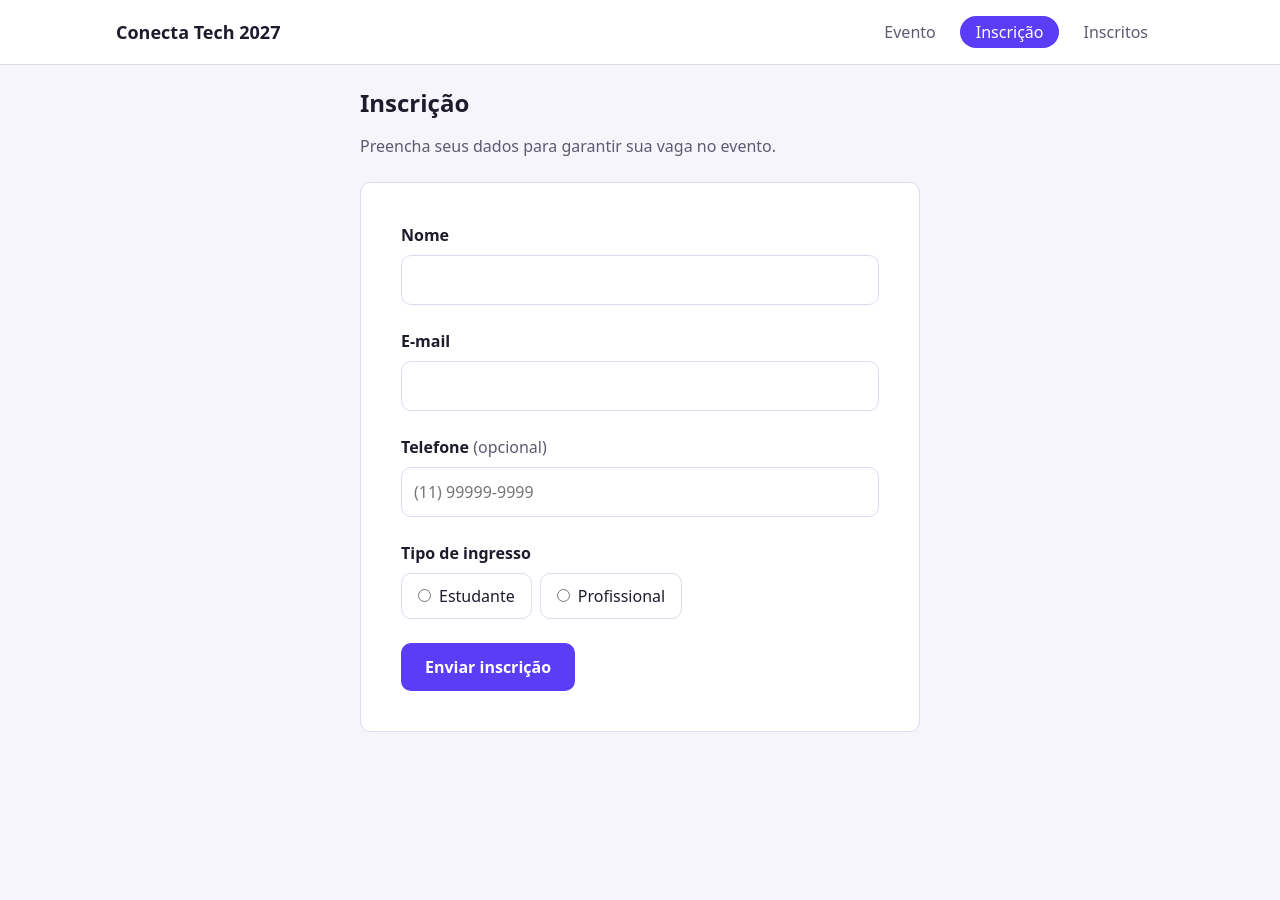
Scenario: formulário de inscrição › REQ-FE-13: alterar um campo com erro remove só a mensagem dele
Click the button "Enviar inscrição": coordinates (488, 667) [401,643,575,691]
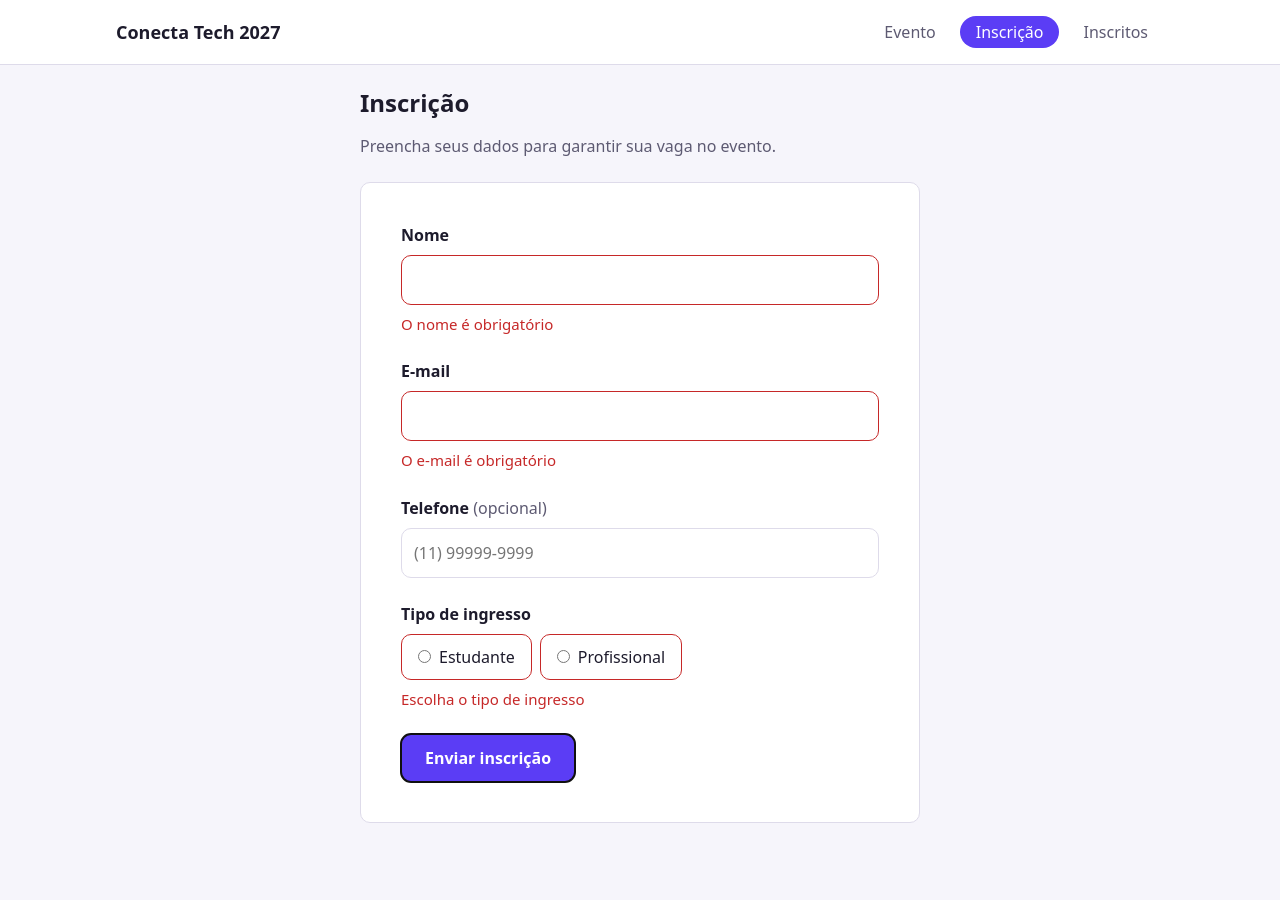
In the field labelled "Nome": coordinates (640, 280) [401,255,879,305], type "M"
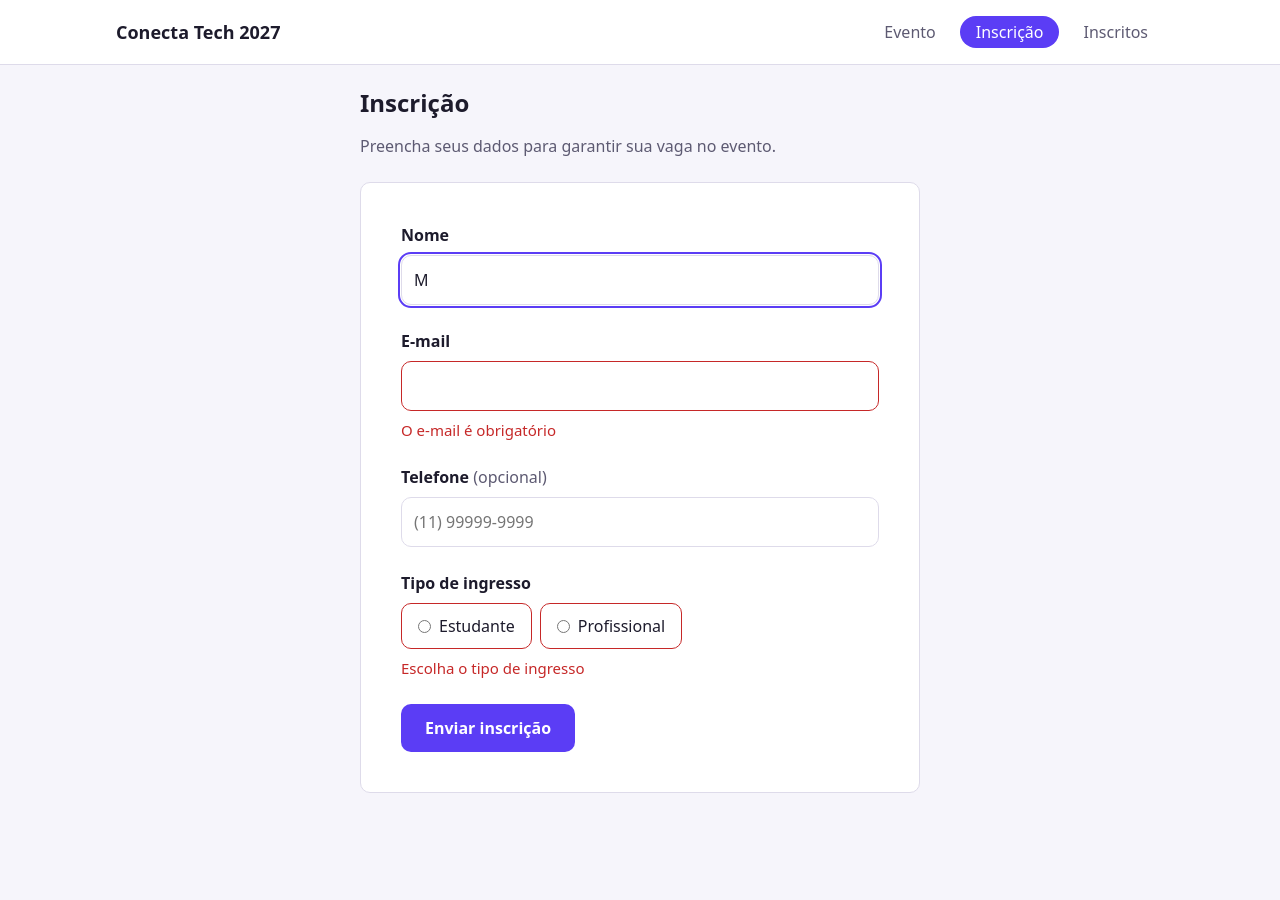
Expected: the text "O e-mail é obrigatório" is shown, [401,420,556,440]
Expected: the text "Escolha o tipo de ingresso" is shown, [401,658,584,678]
Expected: the text "O nome é obrigatório" is gone
Click the radio button labelled "Profissional": coordinates (563, 626) [557,620,570,633]
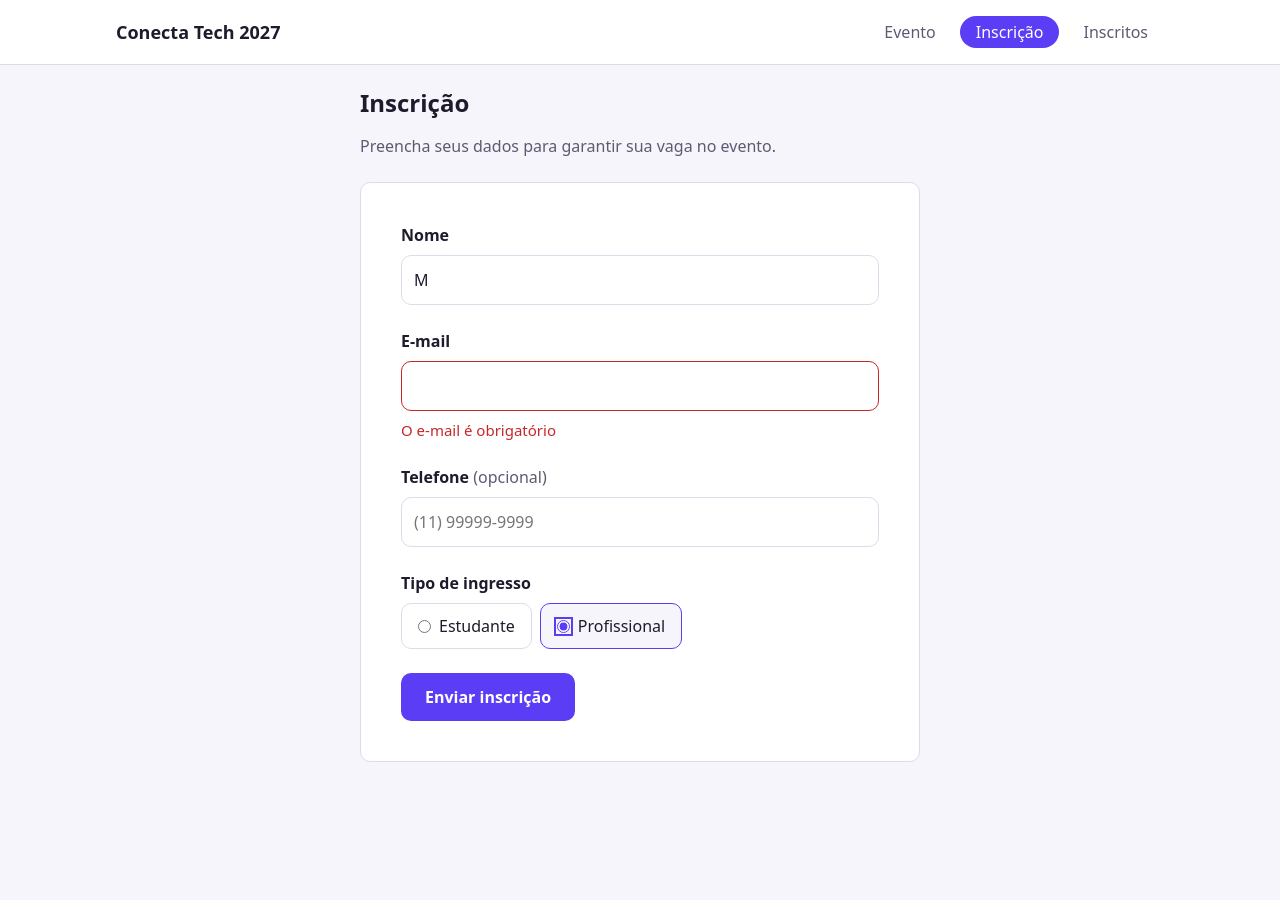
Expected: the text "Escolha o tipo de ingresso" is gone
